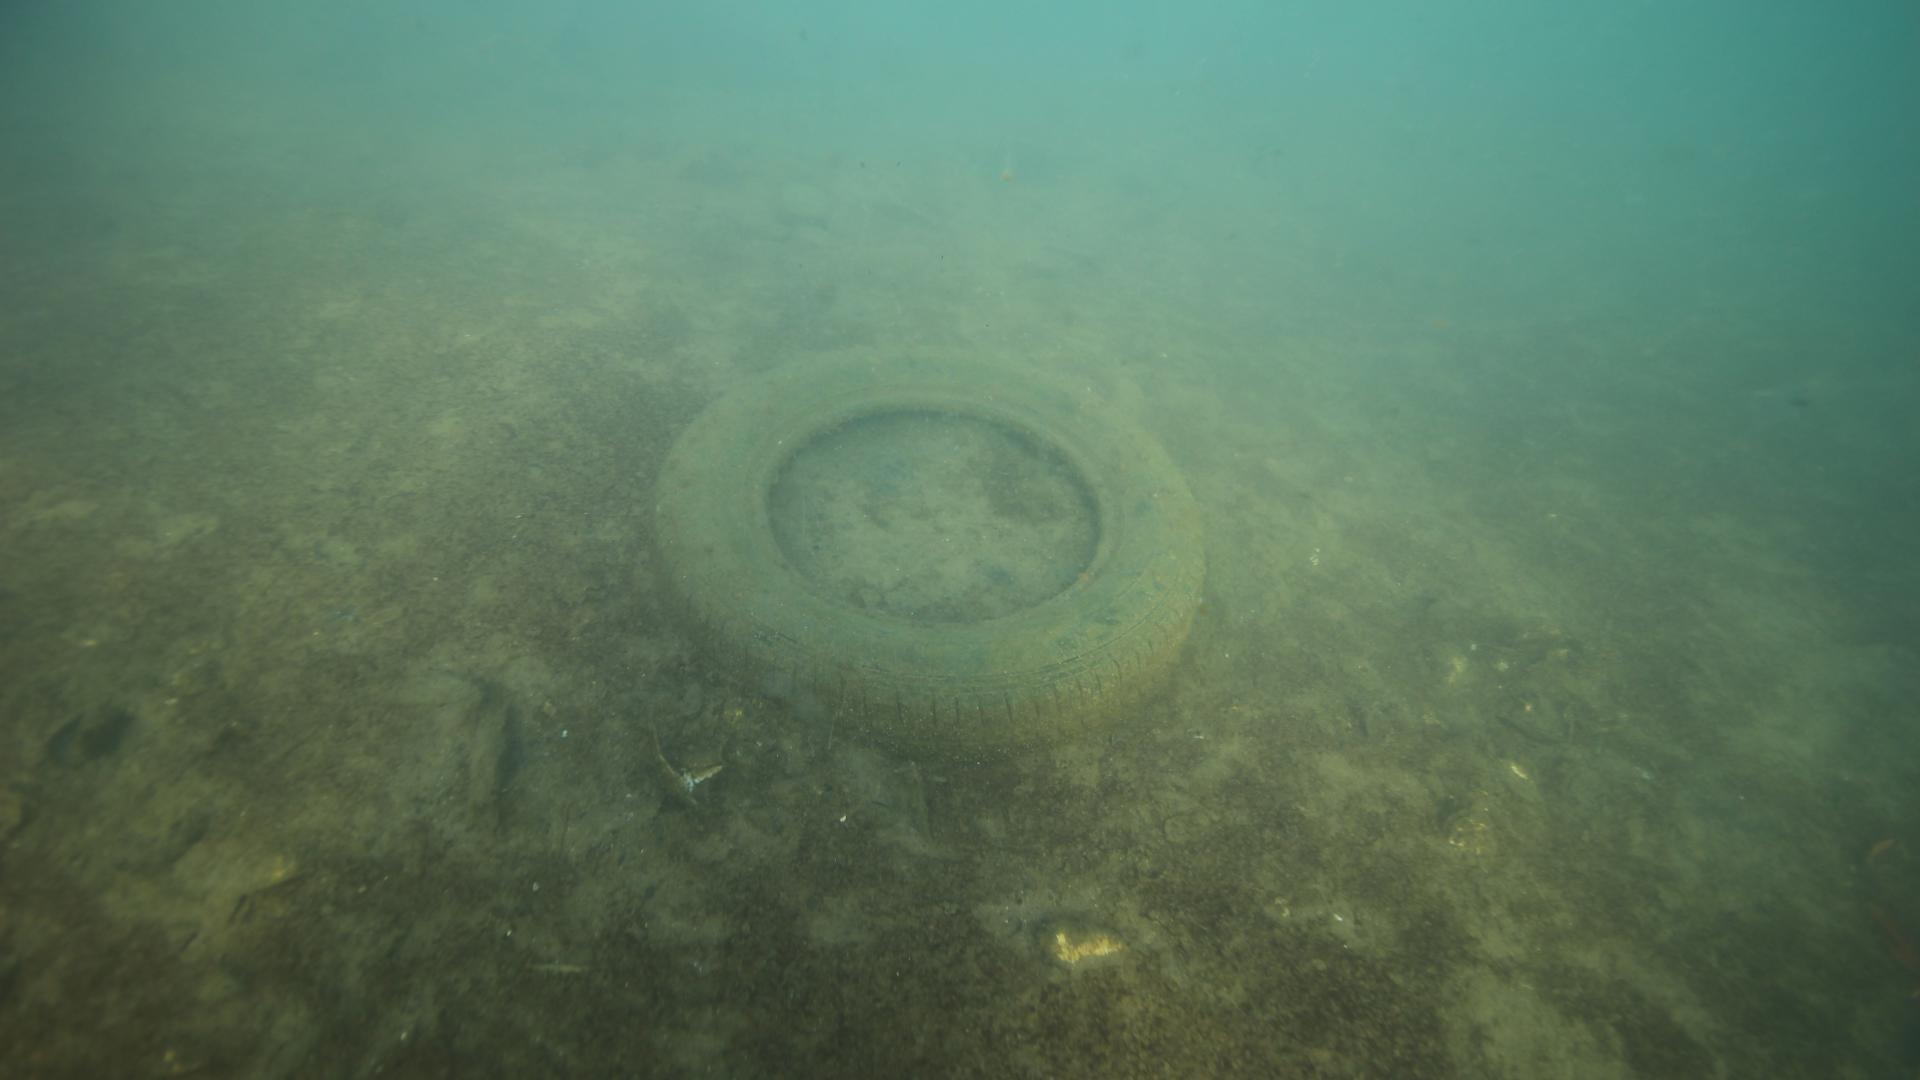tire: (650, 342, 1207, 746)
